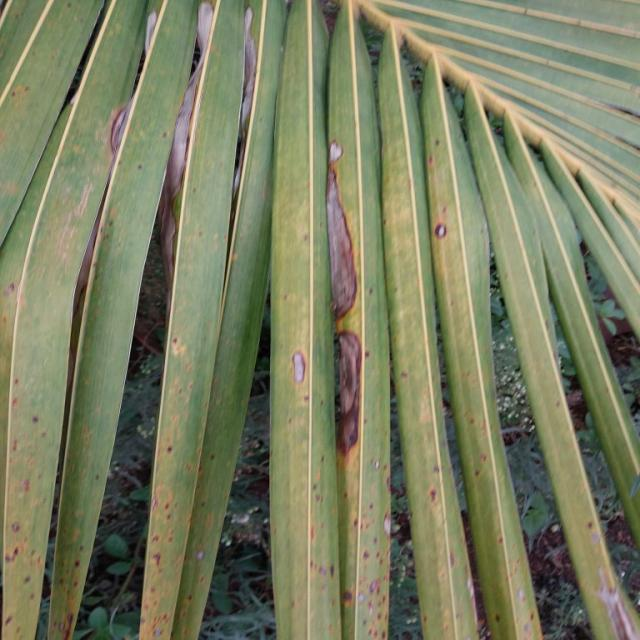gray leaf spot: (96, 28, 412, 457)
